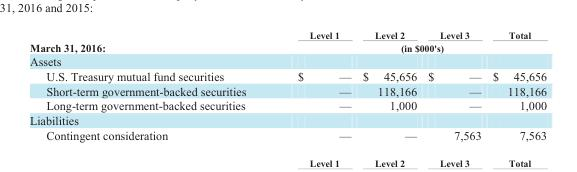table: (29, 28, 546, 141)
table column: (29, 28, 271, 141), (271, 28, 356, 141), (356, 28, 421, 141), (421, 28, 486, 141), (486, 28, 546, 141)
table column header: (29, 28, 546, 40)
table projected row header: (29, 53, 546, 68), (29, 112, 546, 127)
table row: (29, 53, 546, 68), (29, 68, 546, 83), (29, 97, 546, 112), (29, 112, 546, 127), (29, 83, 546, 97), (29, 127, 546, 141), (29, 40, 546, 53), (29, 28, 546, 40)
table spanning cell: (271, 40, 546, 53)
